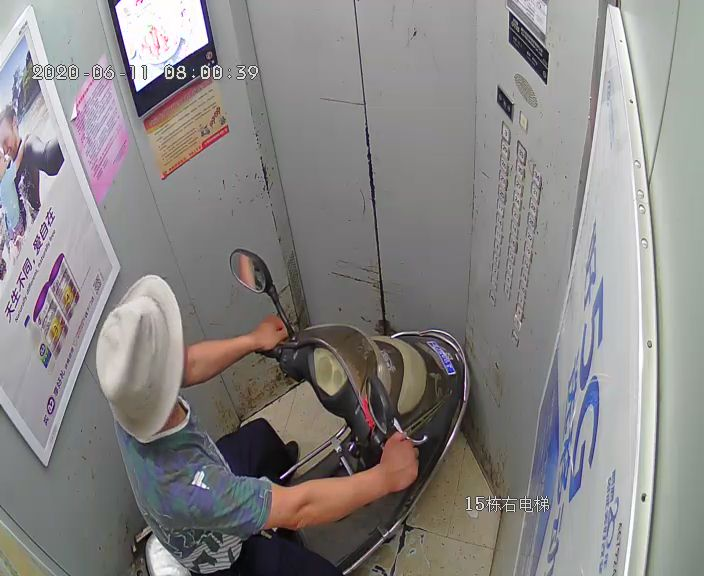Electric-bicycle: (131, 244, 465, 576)
